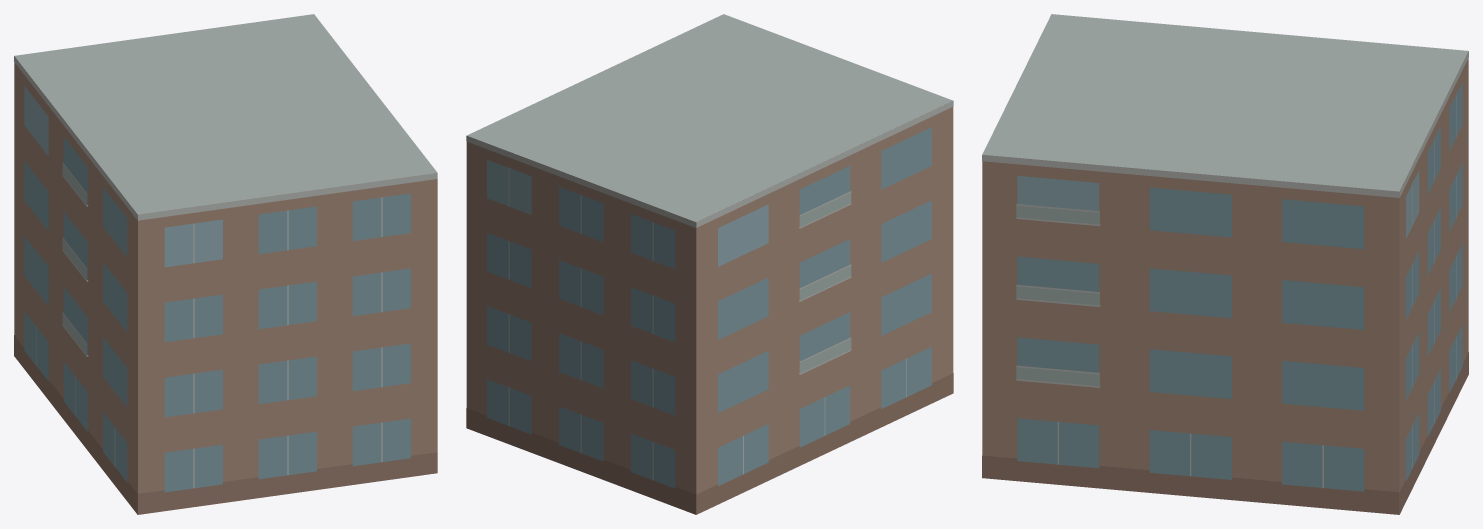
File: residential-08e273bf-1aaa-455f-b6bf-70bc3a17e628.glb
3 renders of one model, left to right at view 1: azimuth 30°, elevation 25°; view 2: azimuth 150°, elevation 25°; view 3: azimuth 270°, elevation 25°, orthographic. The views are drawn at different scales.
Parts seen in each view (by area): view 1: residential-08e273bf-1aaa-455f-b6bf-70bc3a17e628.tmp; view 2: residential-08e273bf-1aaa-455f-b6bf-70bc3a17e628.tmp; view 3: residential-08e273bf-1aaa-455f-b6bf-70bc3a17e628.tmp.
Part boxes in pixels (x1=…): residential-08e273bf-1aaa-455f-b6bf-70bc3a17e628.tmp: x1=14, y1=14, x2=437, y2=514; residential-08e273bf-1aaa-455f-b6bf-70bc3a17e628.tmp: x1=466, y1=14, x2=953, y2=514; residential-08e273bf-1aaa-455f-b6bf-70bc3a17e628.tmp: x1=982, y1=14, x2=1468, y2=514.
Size of the model in its own units: 14.38 by 12.2 by 16.65.
